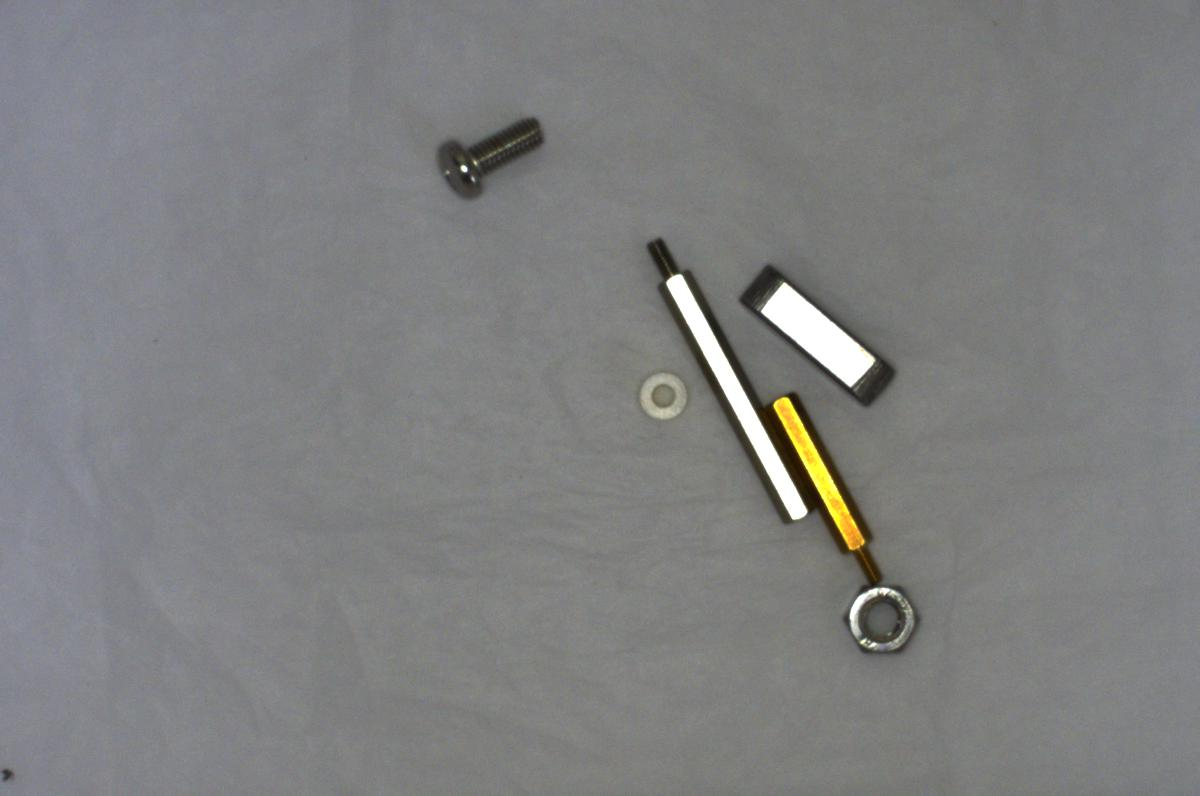Hexagon nut: (841, 573, 923, 656)
Hexagon pillar: (753, 389, 888, 589)
Hexagonal steel column: (644, 239, 811, 536)
Keybar: (732, 263, 905, 412)
Plastic cushion pillar: (620, 356, 693, 427)
Round head screw: (433, 106, 560, 205)
